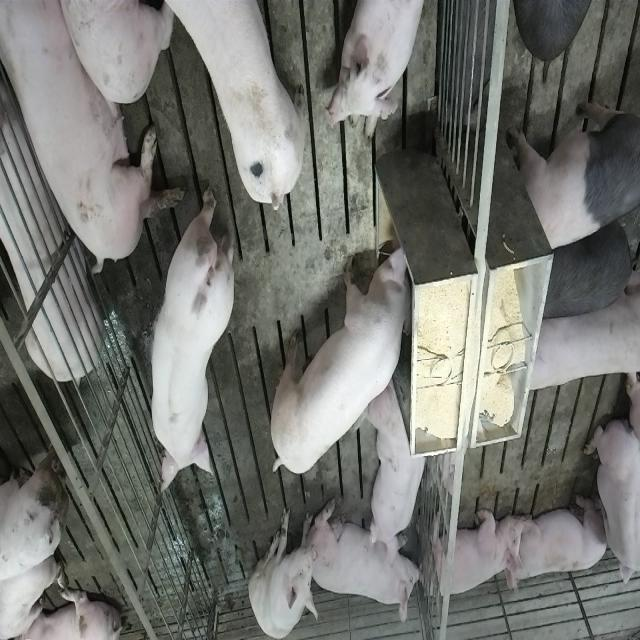Feeding: (273, 240, 421, 476)
Lateral_lying: (2, 0, 182, 273), (0, 62, 103, 384)
Sitting: (248, 504, 320, 638)
Standing: (142, 2, 310, 214), (148, 176, 236, 502), (511, 90, 638, 256), (519, 274, 637, 398), (534, 217, 638, 323)
Sternal_lying: (332, 0, 433, 137), (313, 502, 425, 625), (366, 381, 431, 563), (584, 412, 638, 598), (508, 492, 610, 588), (425, 507, 519, 602)
